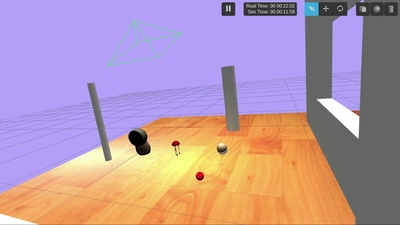mira_robot: (218, 143, 227, 154)
